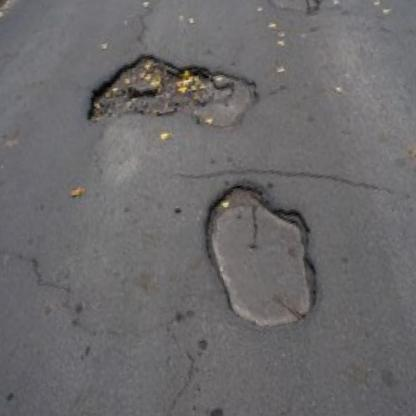pothole: (73, 32, 265, 158), (193, 167, 332, 340), (245, 0, 352, 29)
